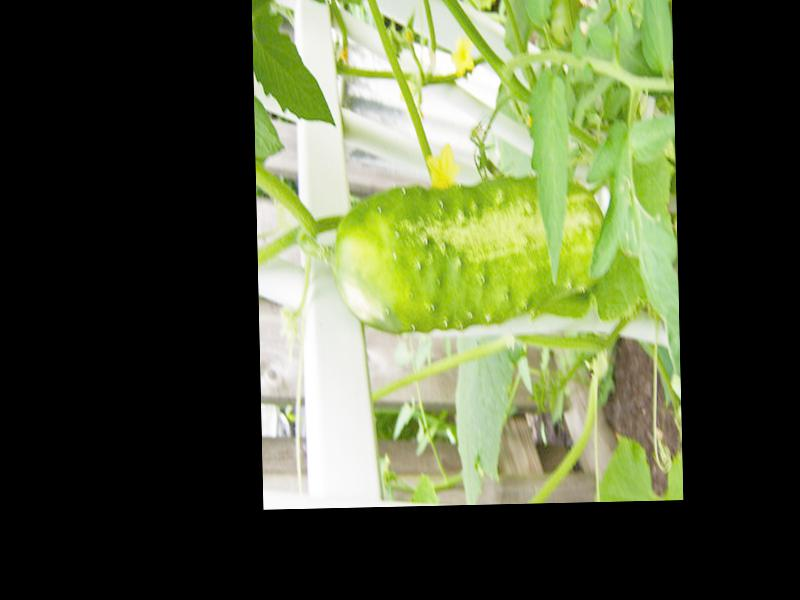Cucumber: (331, 181, 603, 333)
